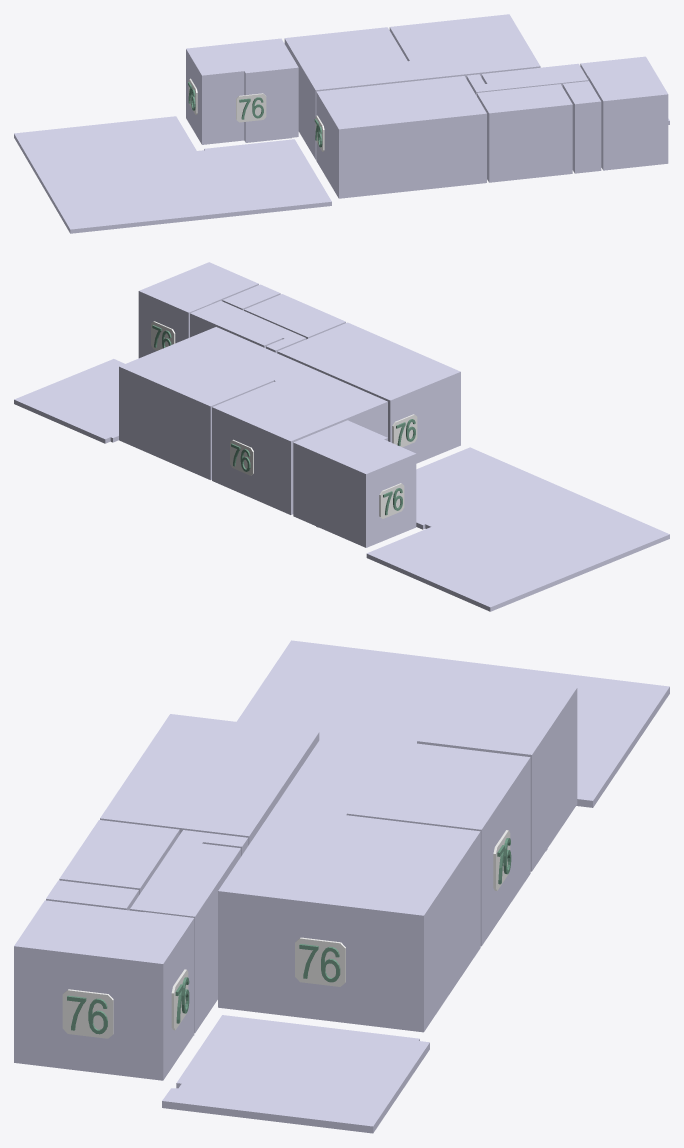
The picture shows the model from 3 angles, top to bottom: view 1: azimuth 30°, elevation 25°; view 2: azimuth 150°, elevation 25°; view 3: azimuth 270°, elevation 25°; orthographic projection. The views are drawn at different scales.
Visible parts, largest first — view 1: g_8, g_2, g_7, g_4, g_3, g_1, g_0, g_5, g_6, g_30; view 2: g_8, g_0, g_1, g_7, g_2, g_9, g_3, g_6, g_4, g_5, g_18; view 3: g_0, g_3, g_8, g_1, g_9, g_2, g_7, g_6, g_4, g_5, g_12, g_15.
Boxes of the visible parts, x1,y1,x2,y2 form: g_8: (14,116,331,233); g_2: (316,76,486,198); g_7: (186,38,298,144); g_4: (477,84,572,182); g_3: (580,56,668,170); g_1: (284,27,420,159); g_0: (389,14,540,80); g_5: (562,81,601,173); g_6: (466,63,588,95); g_30: (236,93,266,122); g_8: (366,447,669,611); g_0: (119,327,307,479); g_1: (212,366,387,514); g_7: (293,420,416,547); g_2: (277,322,460,463); g_9: (14,359,124,443); g_3: (138,262,258,358); g_6: (190,301,306,352); g_4: (244,294,345,339); g_5: (222,284,280,310); g_18: (379,483,404,518); g_0: (218,806,480,1032); g_3: (14,900,194,1080); g_8: (236,640,669,807); g_1: (275,732,530,946); g_9: (162,1015,429,1133); g_2: (100,714,319,845); g_7: (417,675,577,871); g_6: (130,830,248,1033); g_4: (59,820,179,894); g_5: (46,880,138,910); g_12: (62,989,113,1038); g_15: (295,937,345,986).
Bounding box in the file's own units: 22.2 × 2.65 × 12.66.
